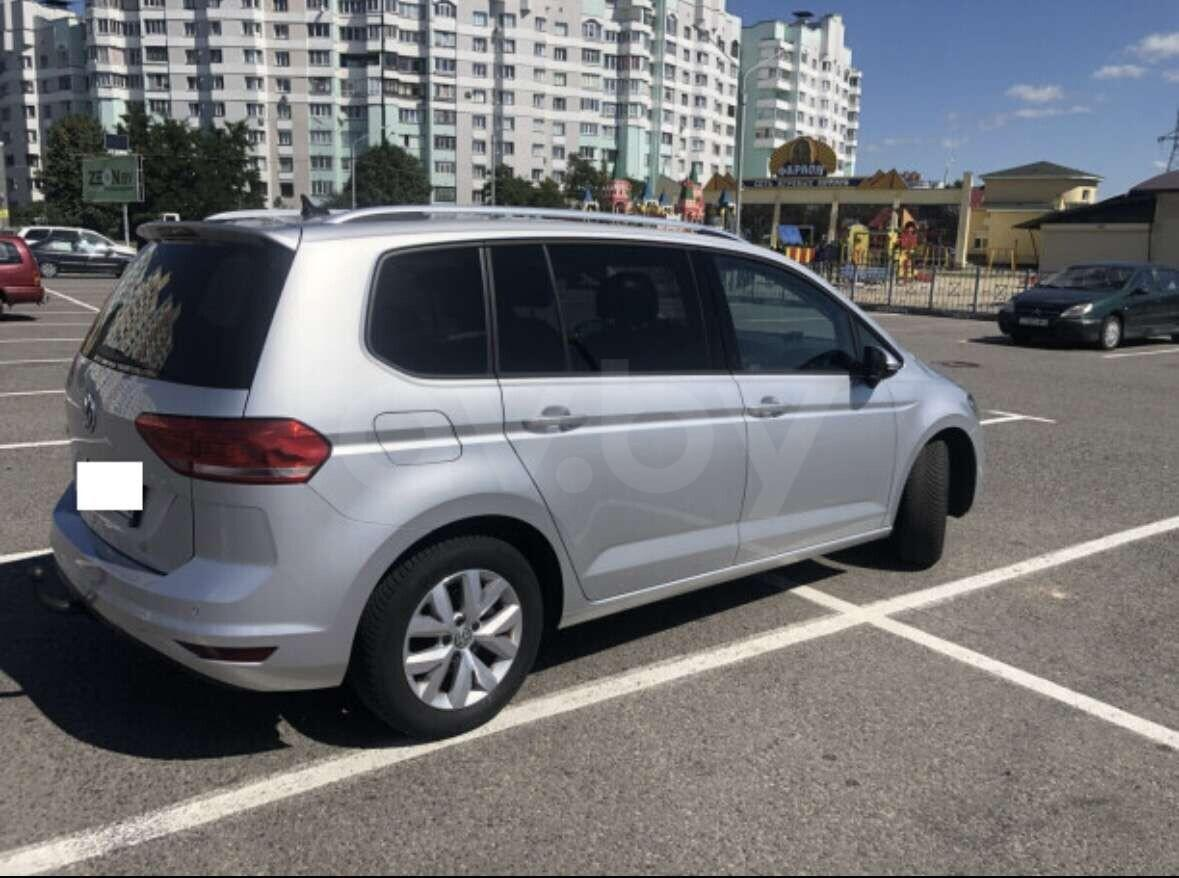Touran_2015: (42, 207, 987, 730)
